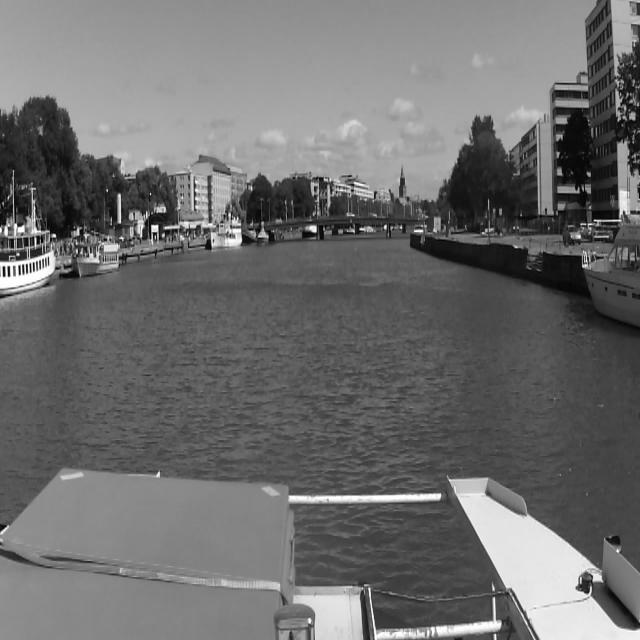ship: (1, 179, 56, 294), (582, 223, 638, 331), (72, 242, 120, 277), (210, 215, 242, 249), (244, 220, 258, 244), (259, 220, 269, 243)
